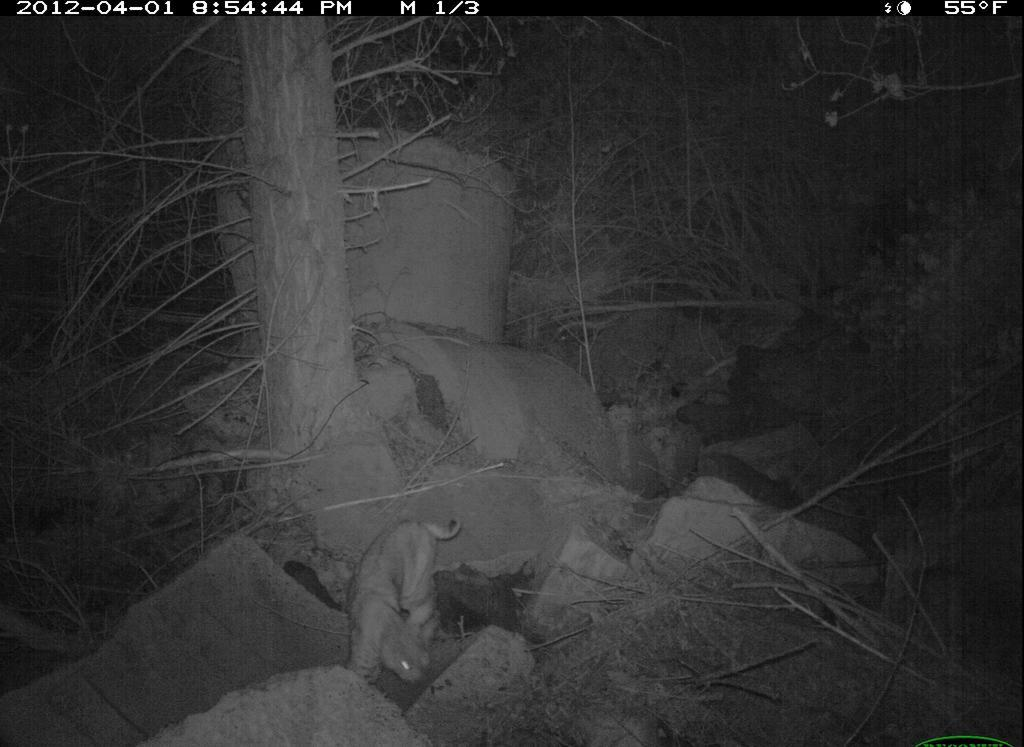bobcat: (344, 506, 464, 696)
